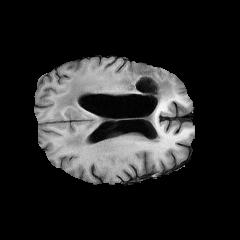glioma: (50, 69, 173, 148)
